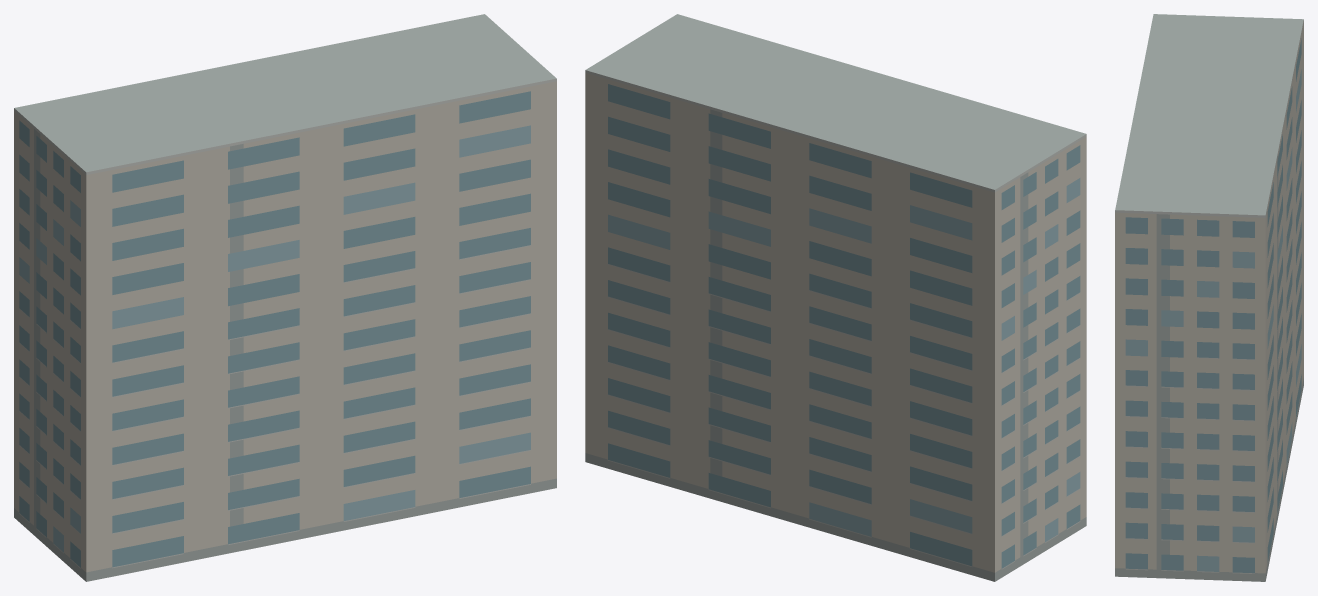
The model's file is residential-83c8ea2f-b08c-4fb1-a762-d28c93ac5505.glb.
3 renders of one model, left to right at view 1: azimuth 30°, elevation 25°; view 2: azimuth 150°, elevation 25°; view 3: azimuth 270°, elevation 25°, orthographic. The views are drawn at different scales.
Visible parts, largest first — view 1: residential-83c8ea2f-b08c-4fb1-a762-d28c93ac5505.tmp; view 2: residential-83c8ea2f-b08c-4fb1-a762-d28c93ac5505.tmp; view 3: residential-83c8ea2f-b08c-4fb1-a762-d28c93ac5505.tmp.
Part boxes in pixels (<box>): residential-83c8ea2f-b08c-4fb1-a762-d28c93ac5505.tmp: <box>14,14,556,581</box>; residential-83c8ea2f-b08c-4fb1-a762-d28c93ac5505.tmp: <box>585,14,1086,581</box>; residential-83c8ea2f-b08c-4fb1-a762-d28c93ac5505.tmp: <box>1115,14,1303,581</box>.
Size of the model in its own units: 42.44 by 36 by 16.81.
